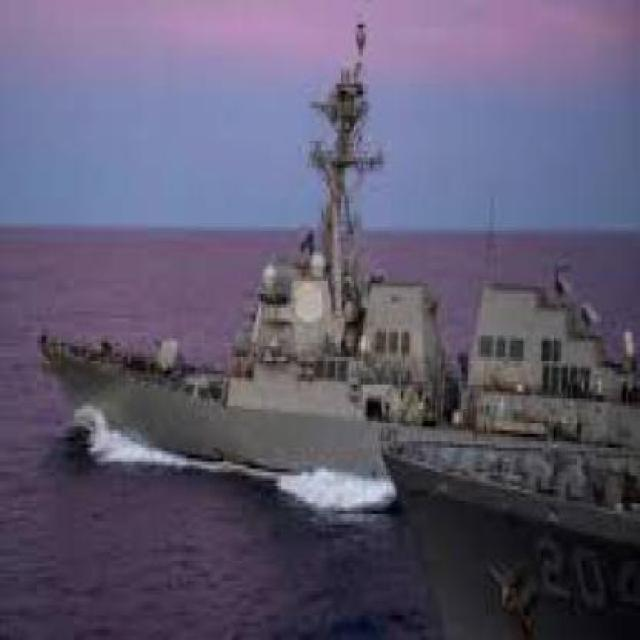warship2: (24, 22, 640, 491)
